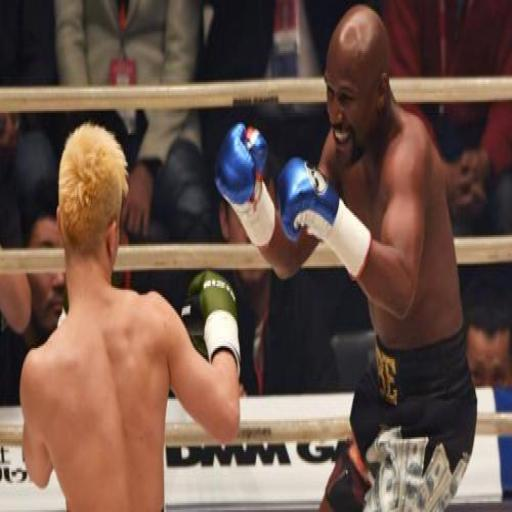boxing: (214, 4, 479, 510), (0, 68, 300, 510)
